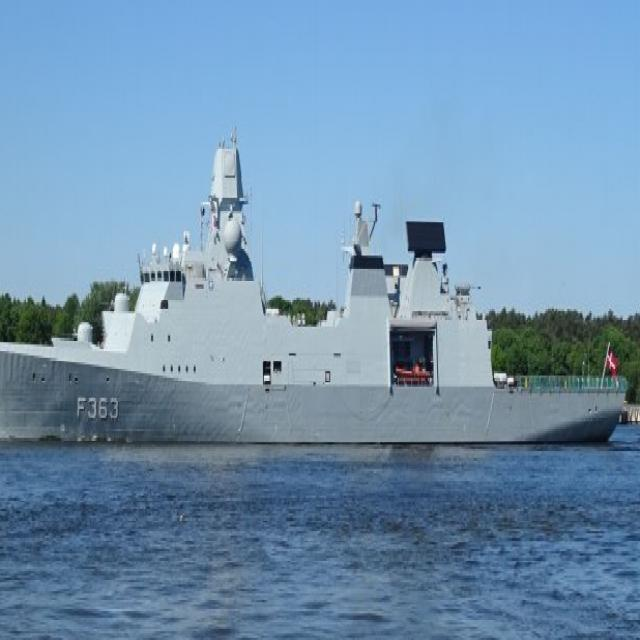Fragata: (1, 130, 633, 461)
